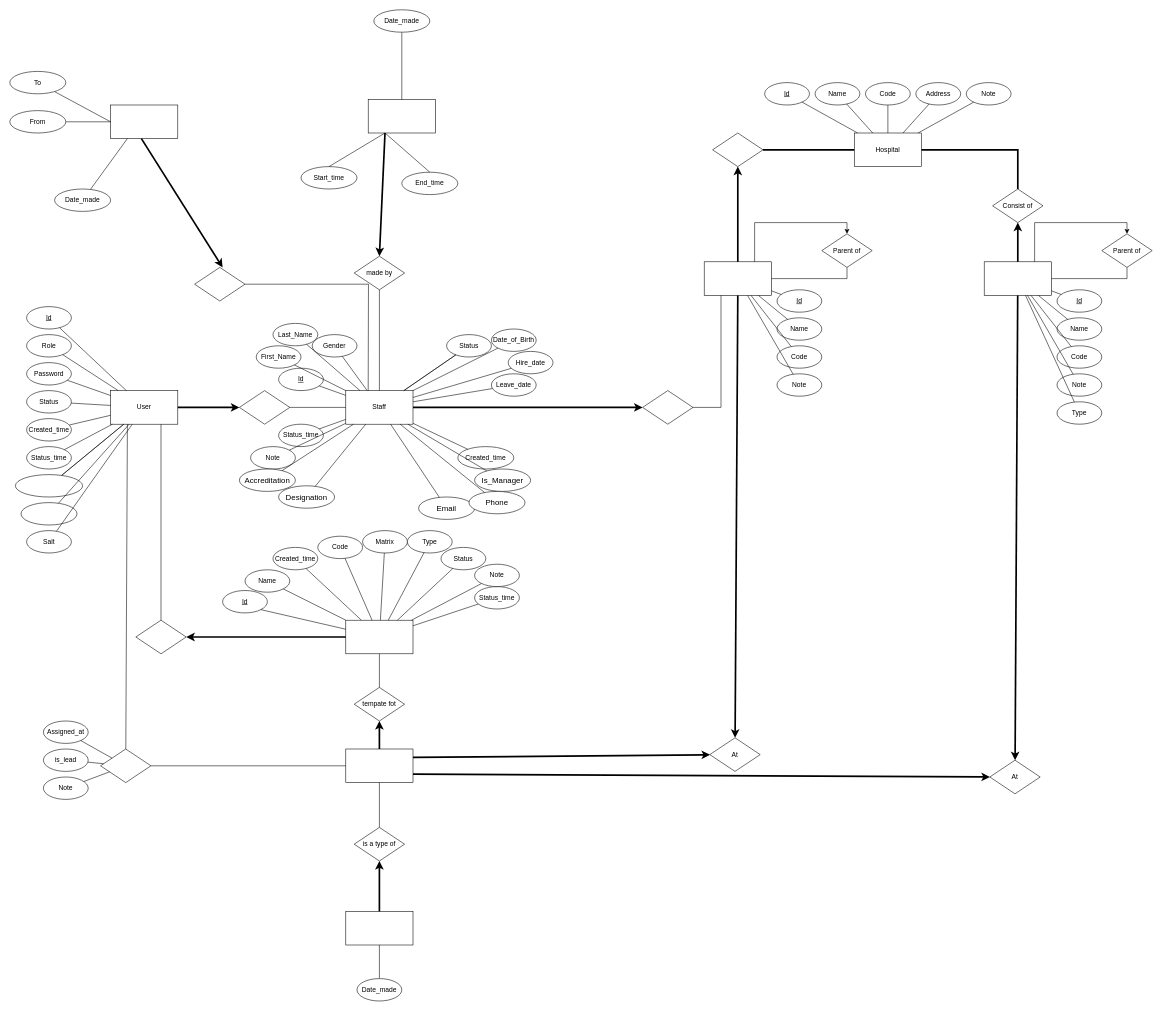
The diagram is 1162 pixels wide and 1011 high, and some of its shapes have lost their labels. Each missing label, with the centre of its shape:
"a Member of" goes at pixel 667 407.
"Affiliated to" goes at pixel 737 149.
"Assigned to" goes at pixel 125 765.
"Belongs to" goes at pixel 264 407.
"Create (Admin only)" goes at pixel 160 637.
"Dept" goes at pixel 737 278.
"Last_Logined_time" goes at pixel 49 485.
"Leave_request" goes at pixel 401 116.
"Location" goes at pixel 1017 278.
"Login_attempts" goes at pixel 48 513.
"Open_shift" goes at pixel 379 928.
"requested by" goes at pixel 219 284.
"Roster_Template" goes at pixel 379 637.
"Shift" goes at pixel 379 765.
"Swap" goes at pixel 144 121.
